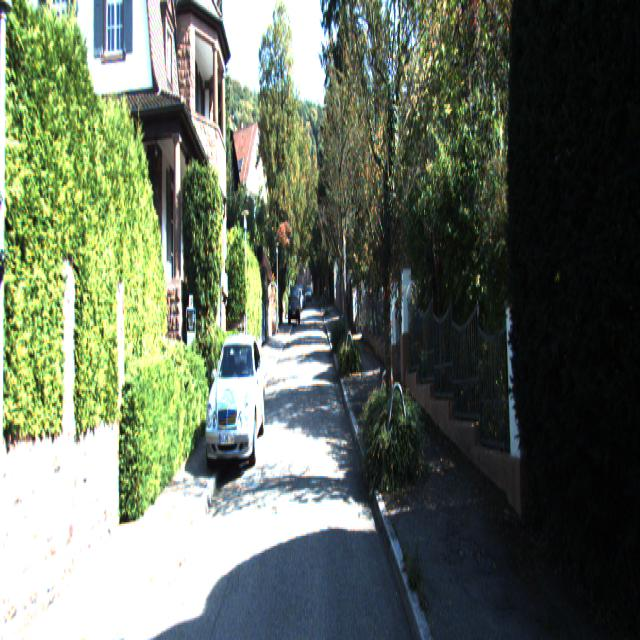Car: (202, 328, 266, 476), (288, 285, 300, 328)
